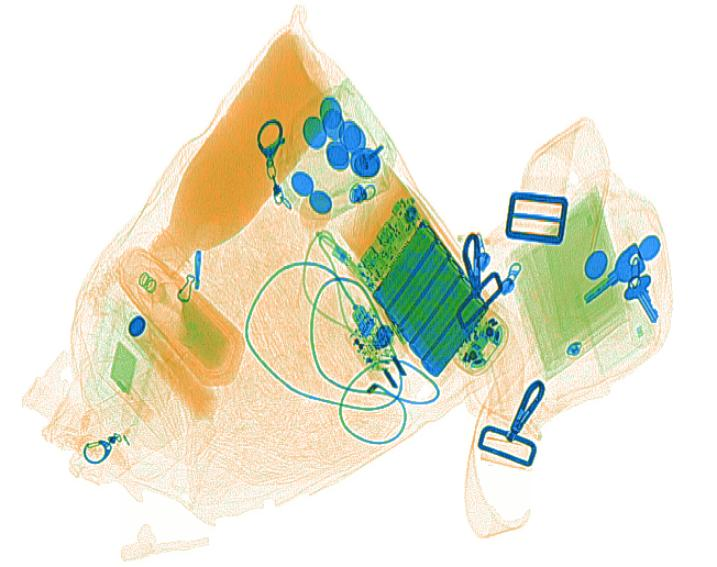battery: (347, 194, 488, 377)
plasticBottleWithaNozzle: (115, 246, 243, 385)
